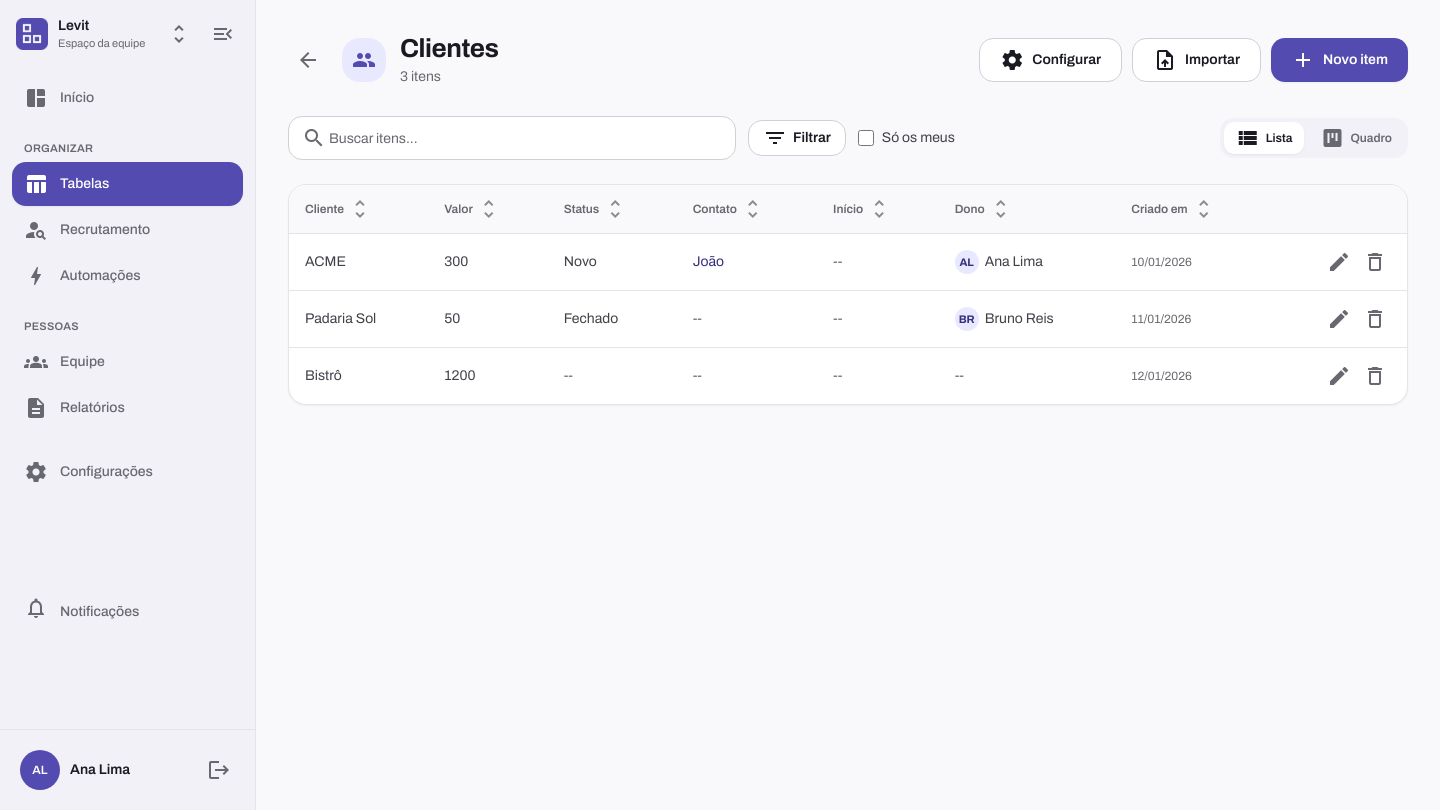
Test: ModuleRecords › exclui depois de confirmar e tira a linha da tabela
expect the cell "ACME" is shown: met, box [289,234,428,290]
Click the button named "Excluir item" in the row of "ACME". click: (1375, 262)
box: [1359,246,1391,278]
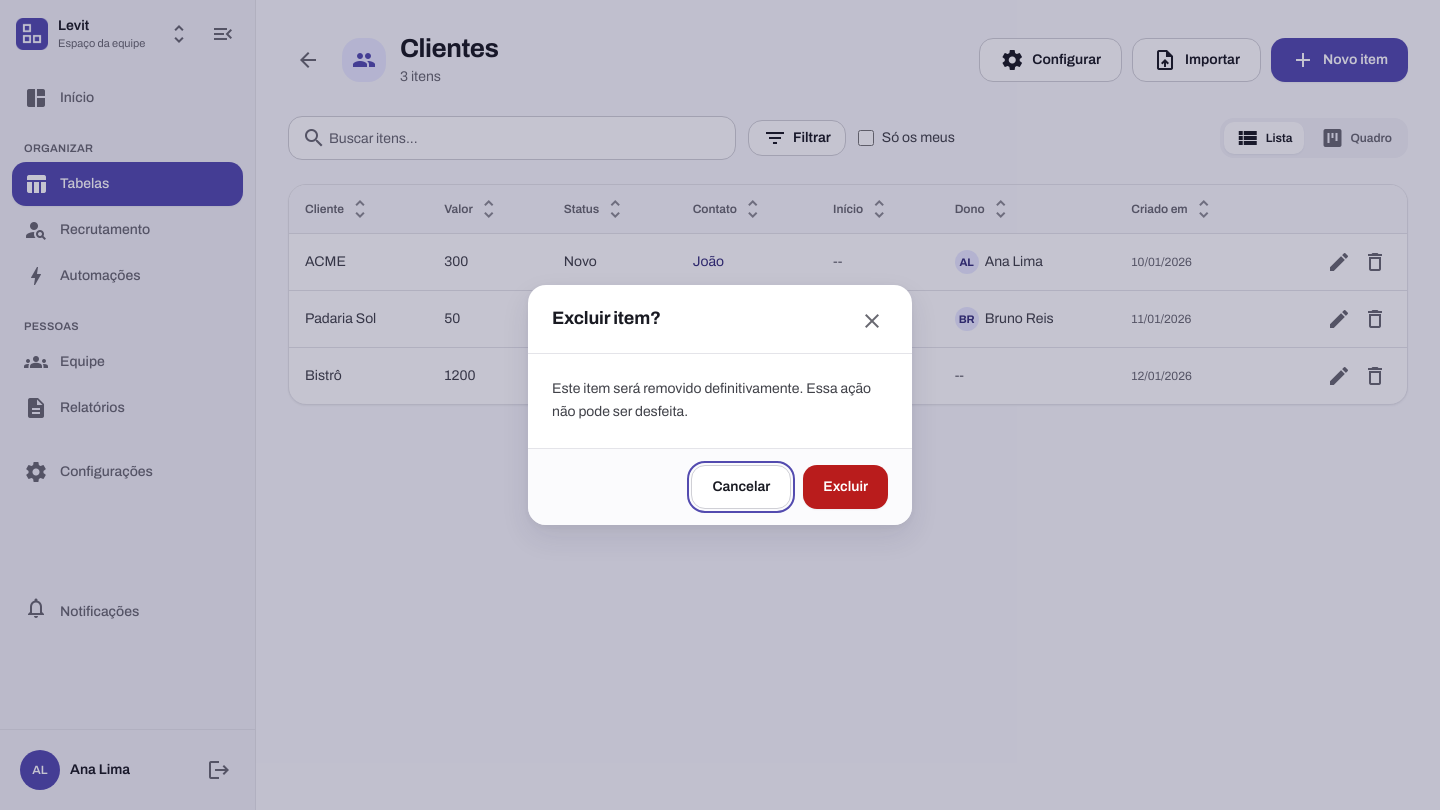
Click the button "Excluir". click: (846, 487)
box: [803,465,888,509]
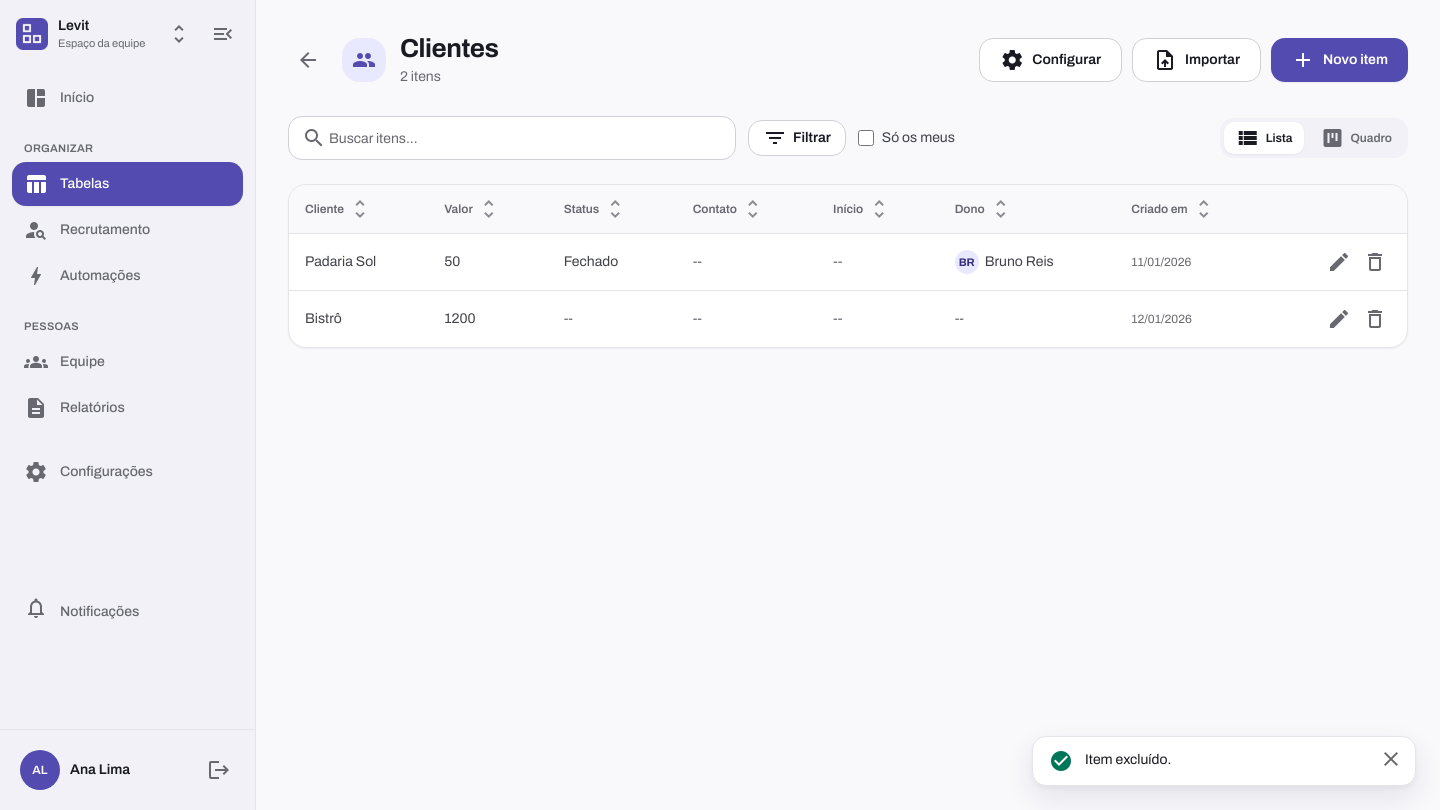
expect the text "Item excluído." is shown: met, box [1085,752,1171,767]
expect the cell "ACME" is gone: met
